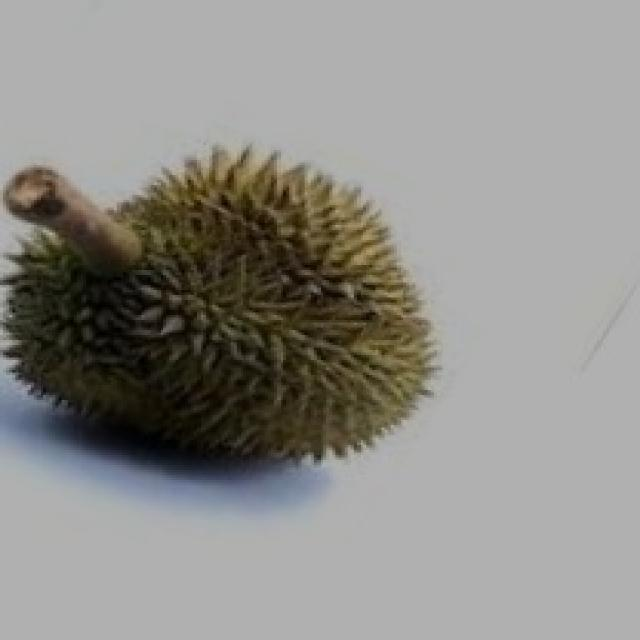fruit: (6, 112, 434, 522)
